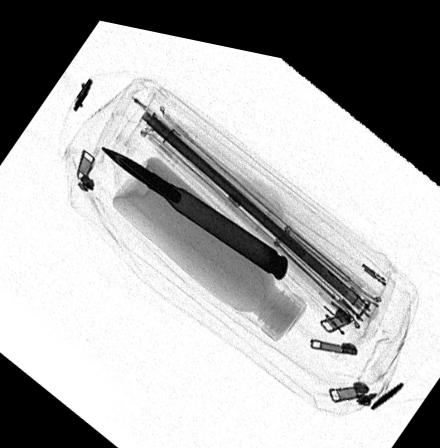Bullet: (98, 142, 289, 267)
